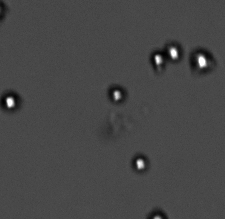Living Cell: (188, 45, 216, 74), (1, 88, 23, 115), (107, 83, 129, 106), (164, 39, 184, 64), (131, 152, 150, 174), (150, 48, 166, 72)
